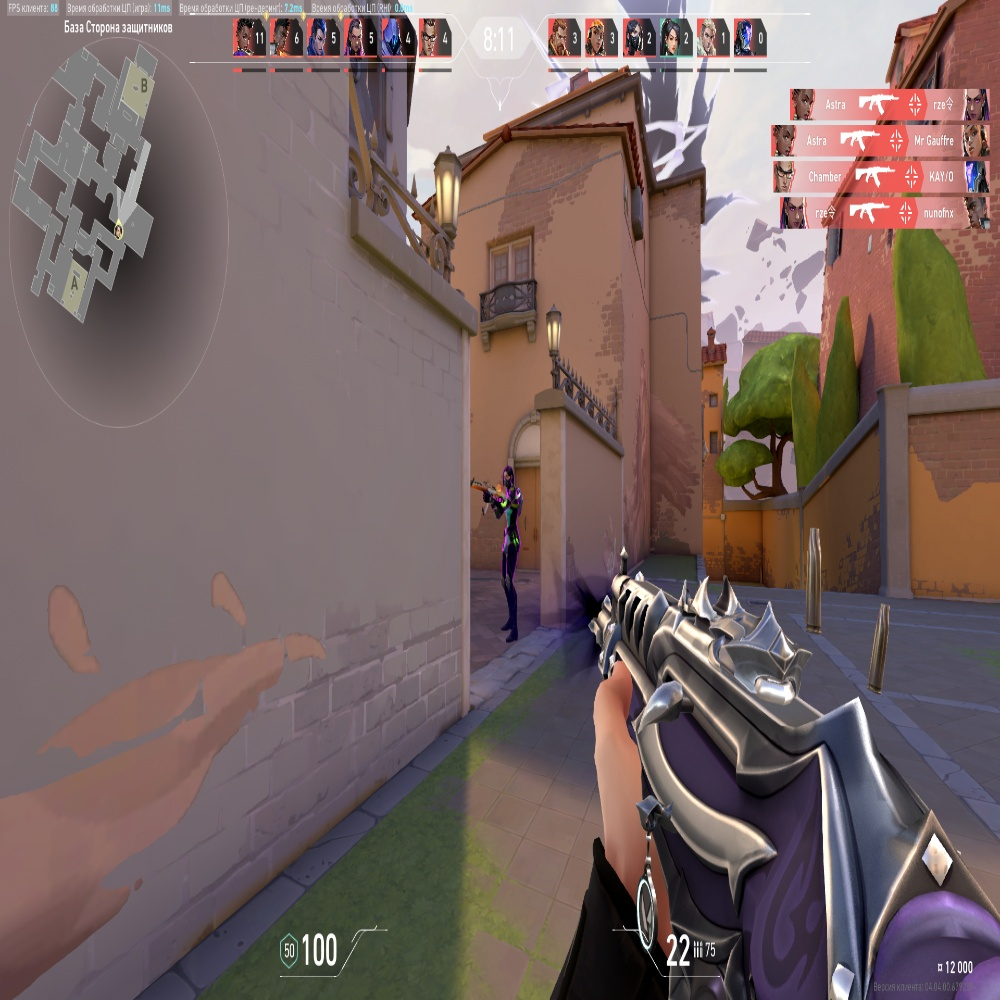body: (504, 491, 519, 542)
head: (502, 468, 514, 487)
